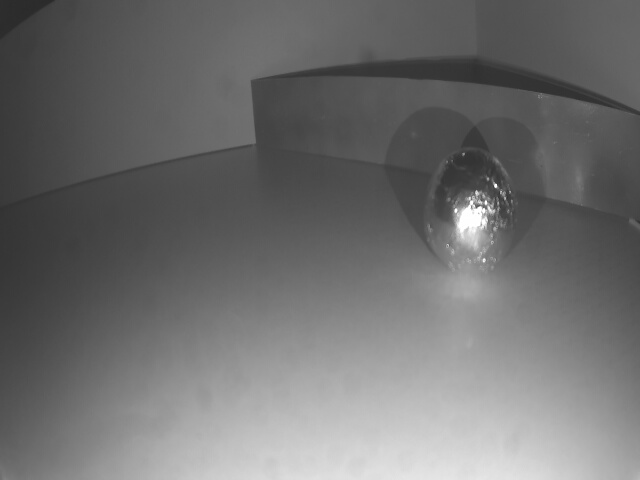Green: (250, 77, 640, 217)
Live: (416, 139, 522, 275)
